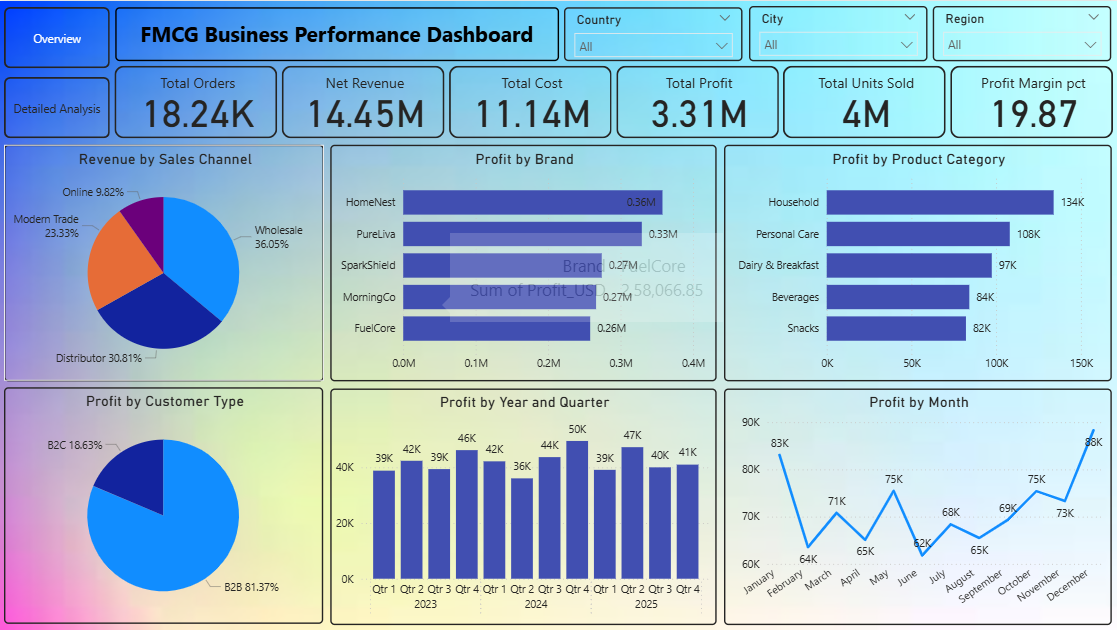

Layout of this report page (visuals, bound fields, positions):
{"tool":"powerbi","page":{"name":"Overview","canvas":[1280,720],"ordinal":0},"visuals":[{"type":"textbox","box":[132.9,7.1,507.1,61.4],"z":0},{"type":"cardVisual","fields":{"Data":["Count(fmcg_sales_marketing_profitability_2023_2025.Order_ID)","Sum(fmcg_sales_marketing_profitability_2023_2025.Net_Revenue_USD)","Sum(fmcg_sales_marketing_profitability_2023_2025.total_cost)","Sum(fmcg_sales_marketing_profitability_2023_2025.Profit_USD)","Sum(fmcg_sales_marketing_profitability_2023_2025.Units_Sold)","Avg(fmcg_sales_marketing_profitability_2023_2025.Profit_Margin_Pct)"]},"box":[127.1,70,1152.9,91.4],"z":1000},{"type":"clusteredBarChart","title":"Profit by Brand","fields":{"Category":["fmcg_sales_marketing_profitability_2023_2025.Brand"],"Y":["Sum(fmcg_sales_marketing_profitability_2023_2025.Profit_USD)"]},"box":[378.6,164.3,441.4,270],"z":2000},{"type":"barChart","title":"Profit by Product Category","fields":{"Y":["Sum(fmcg_sales_marketing_profitability_2023_2025.Profit_USD)"],"Category":["fmcg_sales_marketing_profitability_2023_2025.Product_Category"]},"box":[828.6,164.3,442.9,270],"z":3000},{"type":"pieChart","title":"Profit by Customer Type","fields":{"Category":["fmcg_sales_marketing_profitability_2023_2025.Customer_Type"],"Y":["Sum(fmcg_sales_marketing_profitability_2023_2025.Profit_USD)"]},"box":[5.7,441.4,365,270],"z":4000},{"type":"columnChart","title":"Profit by Year and Quarter","fields":{"Y":["Sum(fmcg_sales_marketing_profitability_2023_2025.Profit_USD)"],"Category":["fmcg_sales_marketing_profitability_2023_2025.Order_Date.Variation.Date Hierarchy.Year","fmcg_sales_marketing_profitability_2023_2025.Order_Date.Variation.Date Hierarchy.Quarter"]},"box":[378.6,442.9,441.4,270],"z":5000},{"type":"pieChart","title":"Revenue by Sales Channel","fields":{"Category":["fmcg_sales_marketing_profitability_2023_2025.Sales_Channel"],"Y":["Sum(fmcg_sales_marketing_profitability_2023_2025.Net_Revenue_USD)"]},"box":[5.7,164.3,365.7,270],"z":6000},{"type":"slicer","fields":{"Values":["fmcg_sales_marketing_profitability_2023_2025.Country"]},"box":[645.7,7.1,204.3,61.4],"z":7000},{"type":"slicer","fields":{"Values":["fmcg_sales_marketing_profitability_2023_2025.City"]},"box":[857.1,5.7,204.3,62.9],"z":8000},{"type":"slicer","fields":{"Values":["fmcg_sales_marketing_profitability_2023_2025.Region"]},"box":[1067.1,5.7,204.3,62.9],"z":9000},{"type":"lineChart","title":"Profit by Month","fields":{"Category":["fmcg_sales_marketing_profitability_2023_2025.Order_Date.Variation.Date Hierarchy.Month"],"Y":["Sum(fmcg_sales_marketing_profitability_2023_2025.Profit_USD)"]},"box":[828.6,442.9,442.9,270],"z":10000},{"type":"pageNavigator","box":[6,2.8,121.2,158.4],"z":11000}]}

Visuals, with their boxes in screenshot pixels (x1, y1, x2, y2), scaled from the page's 1280x720 canvas onto the 1117x630 screenshot:
textbox: bbox=[116, 6, 558, 60]
cardVisual - Count(fmcg_sales_marketing_profitability_2023_2025.Order_ID) x Sum(fmcg_sales_marketing_profitability_2023_2025.Net_Revenue_USD): bbox=[111, 61, 1116, 141]
"Profit by Brand" clusteredBarChart: bbox=[330, 144, 716, 380]
"Profit by Product Category" barChart: bbox=[723, 144, 1110, 380]
"Profit by Customer Type" pieChart: bbox=[5, 386, 323, 622]
"Profit by Year and Quarter" columnChart: bbox=[330, 388, 716, 624]
"Revenue by Sales Channel" pieChart: bbox=[5, 144, 324, 380]
slicer - fmcg_sales_marketing_profitability_2023_2025.Country: bbox=[563, 6, 742, 60]
slicer - fmcg_sales_marketing_profitability_2023_2025.City: bbox=[748, 5, 926, 60]
slicer - fmcg_sales_marketing_profitability_2023_2025.Region: bbox=[931, 5, 1109, 60]
"Profit by Month" lineChart: bbox=[723, 388, 1110, 624]
pageNavigator: bbox=[5, 2, 111, 141]
